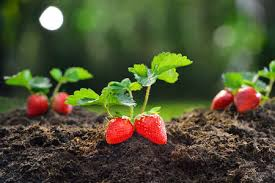ripe: (133, 111, 169, 148), (104, 117, 136, 145), (233, 86, 262, 113), (210, 83, 235, 112), (51, 89, 75, 116), (25, 91, 48, 116)
